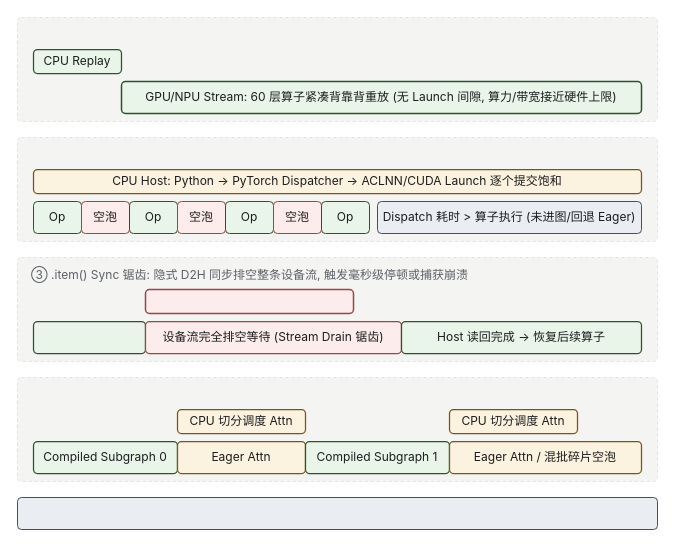
Some shapes in this 675 by 547 pixel diagram are drawn without their labels. The box of each missing label's shape, as (x1, y1, x2, y2) in pixels:
CPU 阻塞在 .item() / nonzero(): (144, 288, 354, 314)
① 健康 FULL Graph: CPU 仅步首唤醒 1 次, 设备流无缝连续执行 (batch=8, L=60, 100 tok): (16, 16, 658, 122)
② Launch-Wall 梳状图: CPU 调度线程 100% 满载, 设备算子间充满微秒空泡: (16, 136, 658, 242)
④ Piecewise / 混批空泡: 静态子图之间夹杂 Eager Attention 切分间隙: (16, 376, 658, 482)
前段算子: (32, 320, 146, 354)
时间轴 t → 快速判据: 先看 CPU 轨迹是否高占空, 再看设备流是梳齿空泡 (②)、毫秒停摆 (③) 还是切分间隙 (④): (16, 496, 658, 530)
